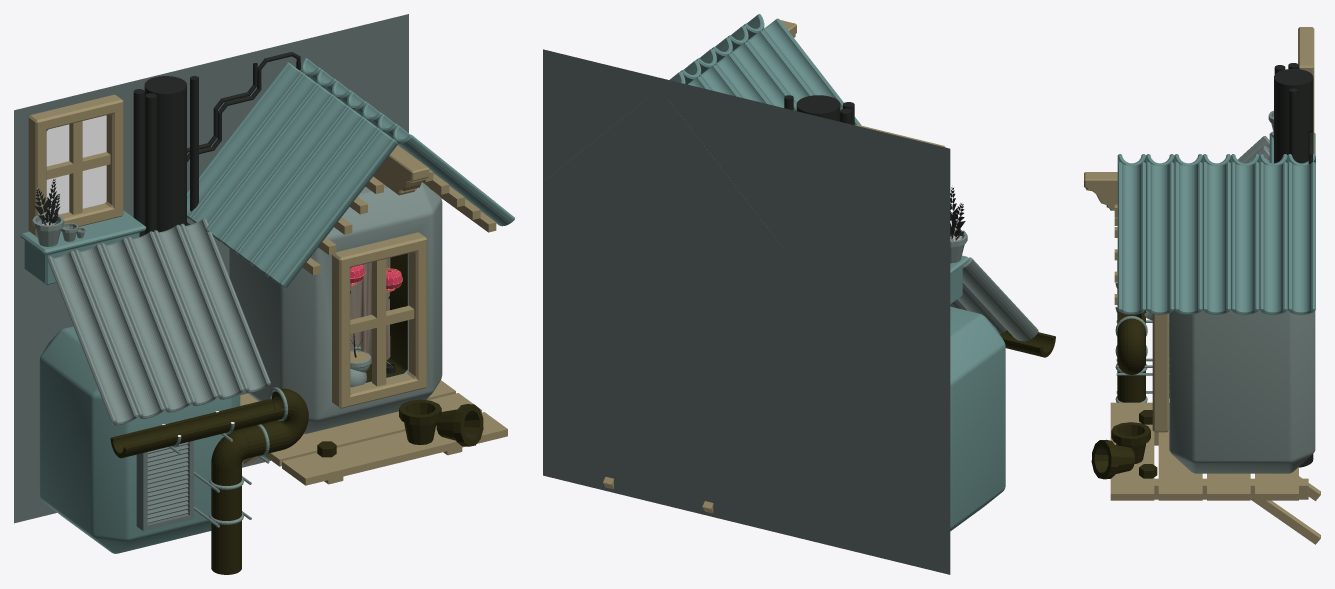
Rendered from 3 fixed_again.fbx.
3 views of the same model, side by side, from view 1: azimuth 30°, elevation 25°; view 2: azimuth 150°, elevation 25°; view 3: azimuth 270°, elevation 25° (orthographic). The views are drawn at different scales.
Visible parts, largest first — view 1: Cube.001; view 2: Cube.001; view 3: Cube.001.
Boxes of the visible parts, box(x1,y1,x2,y2) form: Cube.001: box(14, 14, 514, 574); Cube.001: box(543, 14, 1055, 574); Cube.001: box(1084, 27, 1320, 544).
Size of the model in its own units: 100 by 100 by 56.07.
